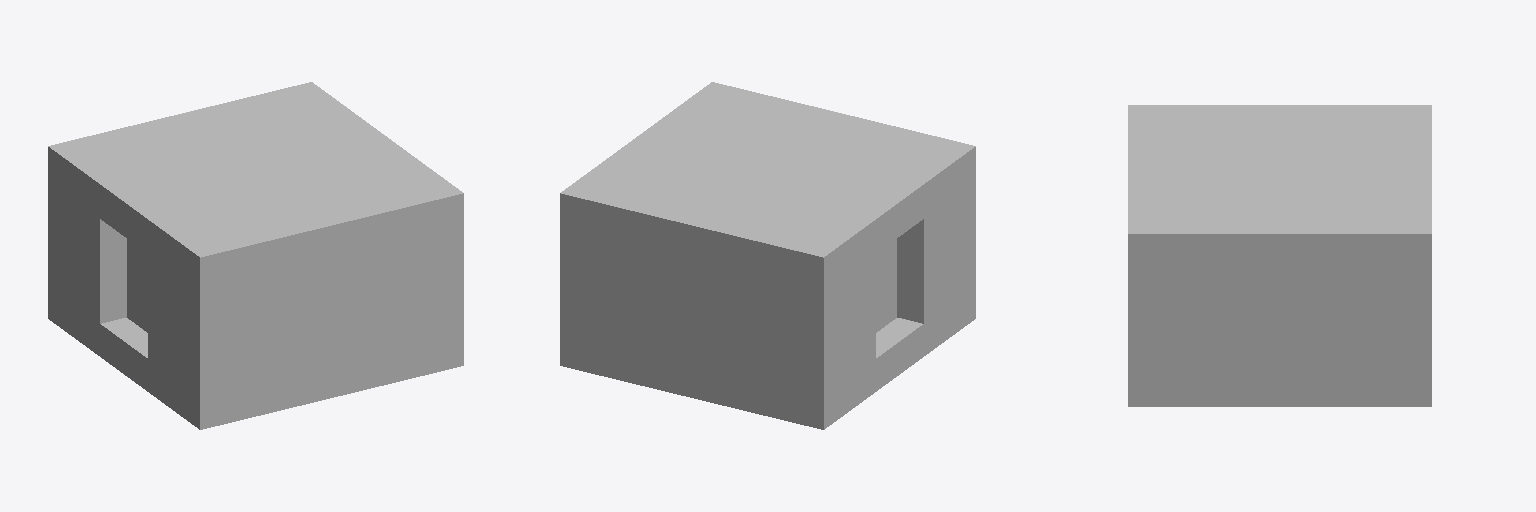
3 views of the same model, side by side, from view 1: azimuth 30°, elevation 25°; view 2: azimuth 150°, elevation 25°; view 3: azimuth 270°, elevation 25° (orthographic).
Visible parts, largest first — view 1: G-__555987_G-__555987_Brick, G-__555987_G-__555987_Glass; view 2: G-__555987_G-__555987_Brick, G-__555987_G-__555987_Glass; view 3: G-__555987_G-__555987_Brick.
Boxes of the visible parts, x1,y1,x2,y2 form: G-__555987_G-__555987_Brick: [48, 82, 463, 429]; G-__555987_G-__555987_Glass: [127, 239, 147, 332]; G-__555987_G-__555987_Brick: [560, 82, 975, 429]; G-__555987_G-__555987_Glass: [876, 239, 896, 332]; G-__555987_G-__555987_Brick: [1128, 105, 1431, 406].
Bounding box in the file's own units: 1 × 0.625 × 1.